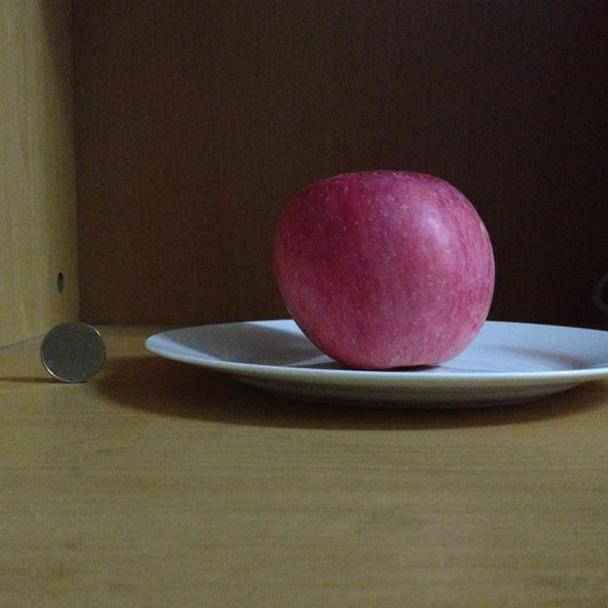apple: (274, 168, 495, 368)
